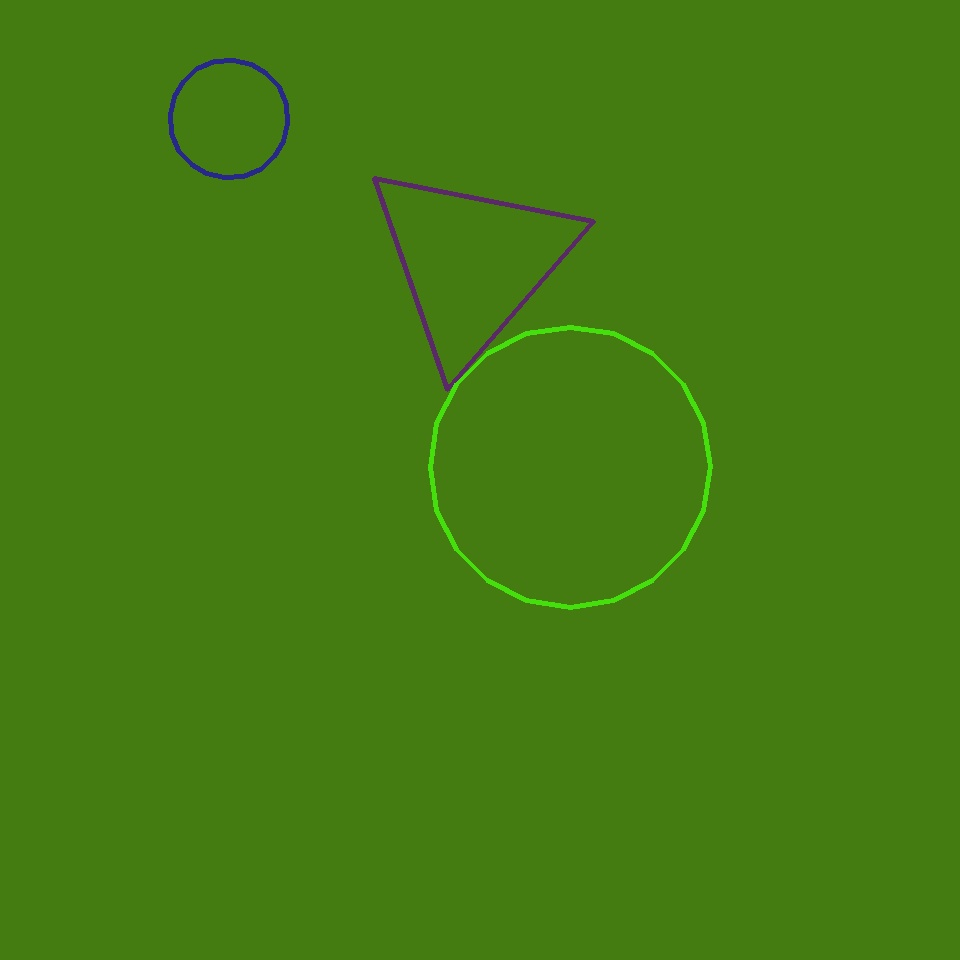circle: (362, 158, 582, 369)
triangle: (430, 327, 710, 607), (170, 60, 288, 178)
